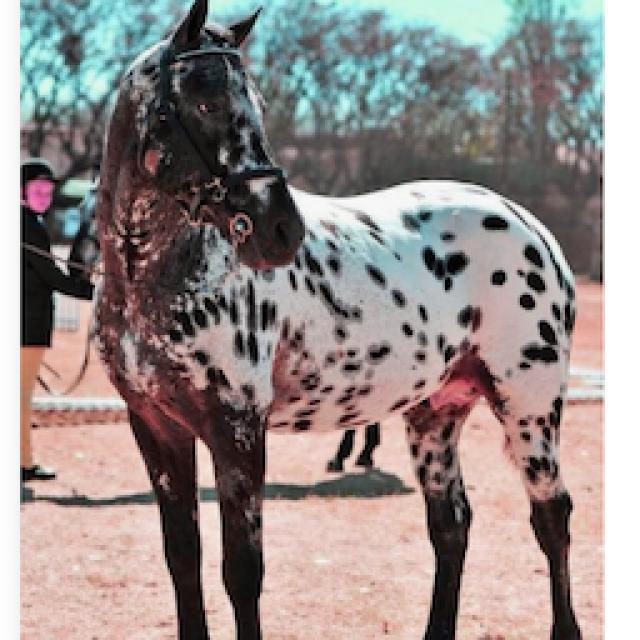Horse: (82, 0, 592, 638)
